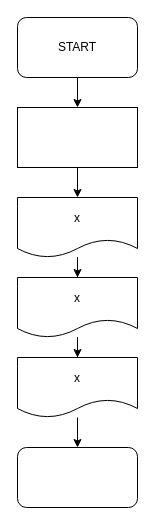
This 155x525 diagram has some shape labels left out. Each missing label, with the centre of its shape:
END: [77,477]
x (int)= input ("number"): [77,137]
